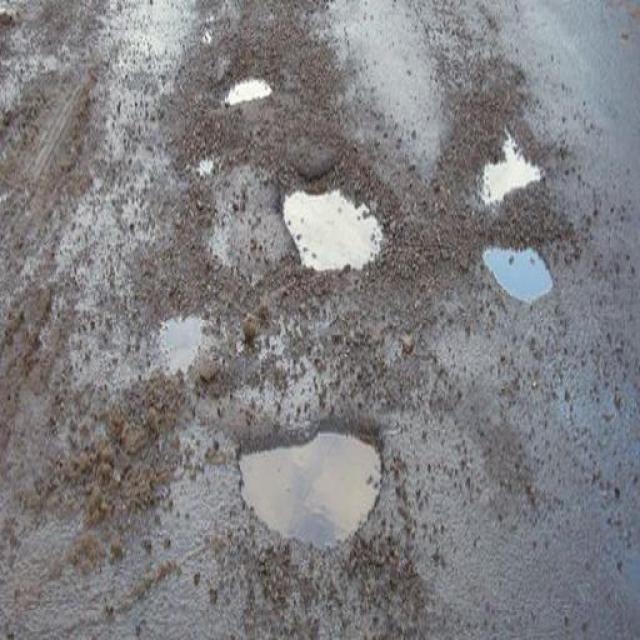puddle: (238, 439, 376, 549), (481, 246, 589, 323), (295, 186, 398, 266), (481, 149, 553, 218)
